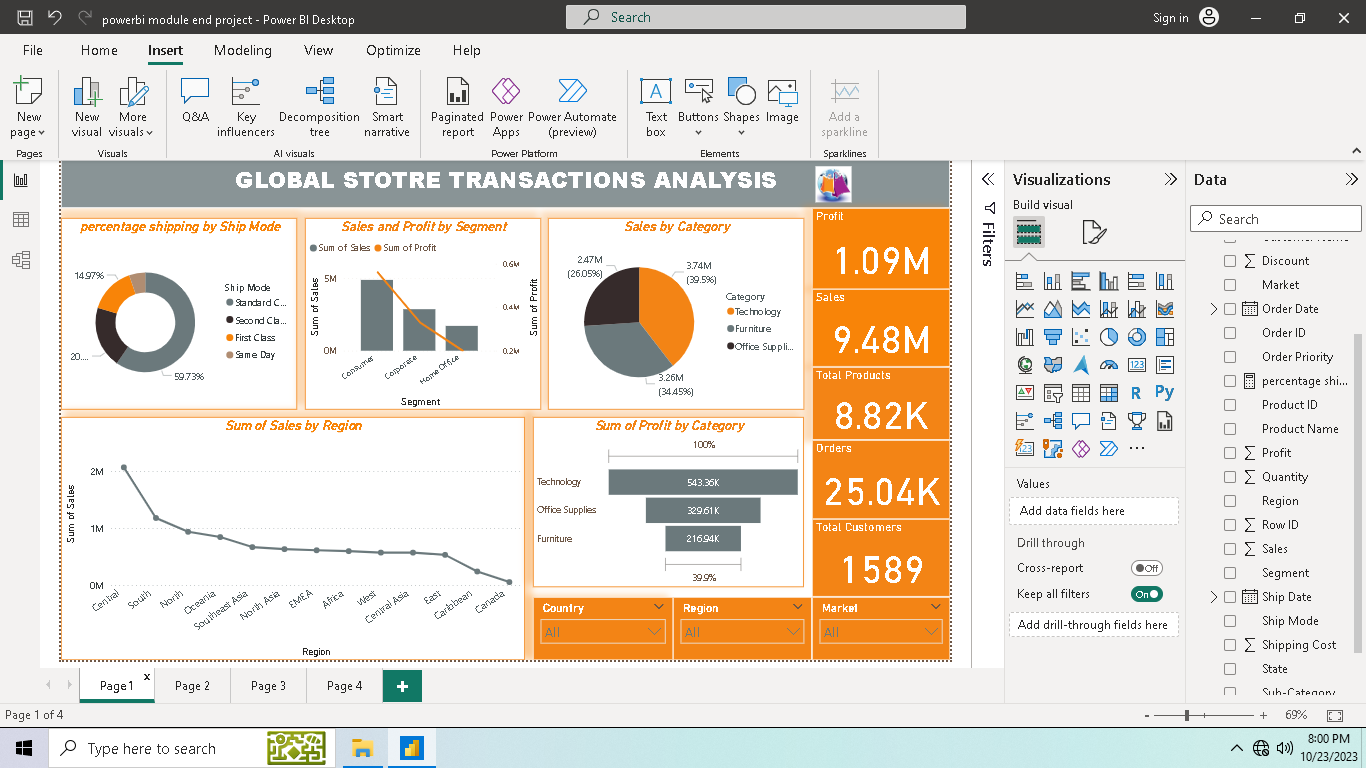

Layout of this report page (visuals, bound fields, positions):
{"tool":"powerbi","page":{"name":"Page 1","canvas":[1280,720],"ordinal":0},"visuals":[{"type":"donutChart","fields":{"Category":["Orders.Ship Mode"],"Y":["Orders.percentage shipping"]},"box":[0,83.5,339.8,276.5],"z":0},{"type":"textbox","box":[0,0,1279.8,69.4],"z":1000},{"type":"card","title":"Profit","fields":{"Values":["Sum(Orders.Profit)"]},"box":[1081.4,69.1,198.7,116.6],"z":2000},{"type":"slicer","fields":{"Values":["Orders.Country"]},"box":[679.7,629.3,201.6,90.7],"z":3000},{"type":"slicer","fields":{"Values":["Orders.Region"]},"box":[881.3,629.3,200.2,90.7],"z":4000},{"type":"slicer","fields":{"Values":["Orders.Market"]},"box":[1081.4,629.3,198.7,90.7],"z":5000},{"type":"card","title":"Sales","fields":{"Values":["Sum(Orders.Sales)"]},"box":[1081.4,185.8,198.7,112.3],"z":6000},{"type":"lineChart","fields":{"Category":["Orders.Region"],"Y":["Sum(Orders.Sales)"]},"box":[0,370.1,668.2,349.9],"z":7000},{"type":"card","title":"Total Products","fields":{"Values":["Count(Orders.Product ID)"]},"box":[1081.4,298.1,198.7,105.1],"z":8000},{"type":"card","title":"Orders","fields":{"Values":["CountNonNull(Orders.Row ID)"]},"box":[1081.4,403.2,198.7,113.8],"z":9000},{"type":"card","title":"Total Customers","fields":{"Values":["Count(Orders.Customer ID)"]},"box":[1081.4,517,198.7,112.3],"z":10000},{"type":"funnel","fields":{"Y":["Sum(Orders.Profit)"],"Category":["Orders.Category"]},"box":[679.7,370.1,390.2,244.8],"z":11000},{"type":"pieChart","title":"Sales by Category","fields":{"Category":["Orders.Category"],"Y":["Sum(Orders.Sales)"]},"box":[701.3,83.5,368.6,276.5],"z":12000},{"type":"lineStackedColumnComboChart","title":" Sales and Profit by Segment","fields":{"Category":["Orders.Segment"],"Y":["Sum(Orders.Sales)"],"Y2":["Sum(Orders.Profit)"]},"box":[351.4,83.5,339.8,276.5],"z":13000},{"type":"image","box":[1081.4,0,61.9,69.1],"z":14000}]}

Visuals, with their boxes on the page's 1280x720 design canvas (x1, y1, x2, y2). These are canvas units, not pixel positions in the 1366x768 screenshot, which may show the page scaled, cropped or inside an application window:
donutChart - Orders.Ship Mode x Orders.percentage shipping: 0:84:340:360
textbox: 0:0:1280:69
"Profit" card: 1081:69:1280:186
slicer - Orders.Country: 680:629:881:720
slicer - Orders.Region: 881:629:1082:720
slicer - Orders.Market: 1081:629:1280:720
"Sales" card: 1081:186:1280:298
lineChart - Orders.Region x Sum(Orders.Sales): 0:370:668:720
"Total Products" card: 1081:298:1280:403
"Orders" card: 1081:403:1280:517
"Total Customers" card: 1081:517:1280:629
funnel - Sum(Orders.Profit) x Orders.Category: 680:370:1070:615
"Sales by Category" pieChart: 701:84:1070:360
" Sales and Profit by Segment" lineStackedColumnComboChart: 351:84:691:360
image: 1081:0:1143:69
